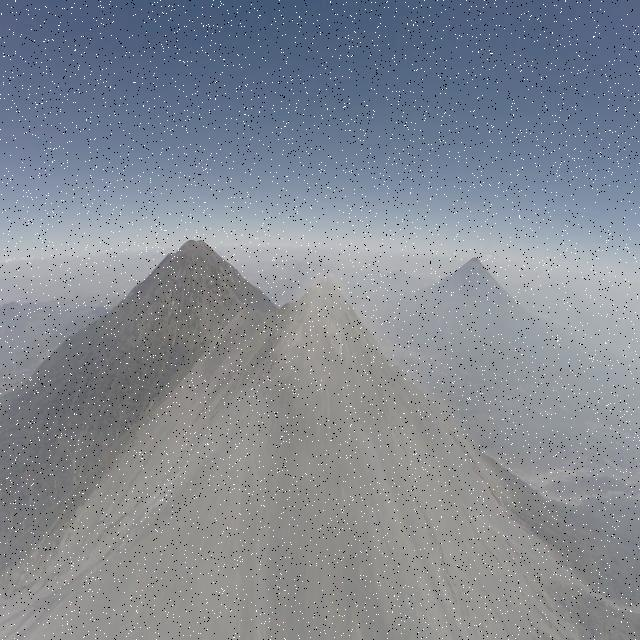Plume: (326, 272, 336, 286)
Summit: (276, 272, 378, 362)
